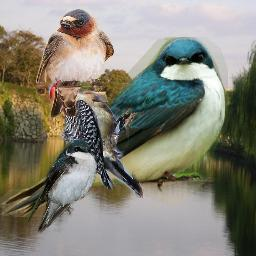Swallow: (0, 37, 228, 217), (36, 8, 114, 118), (27, 137, 99, 233)
Woodpecker: (48, 67, 144, 198)
